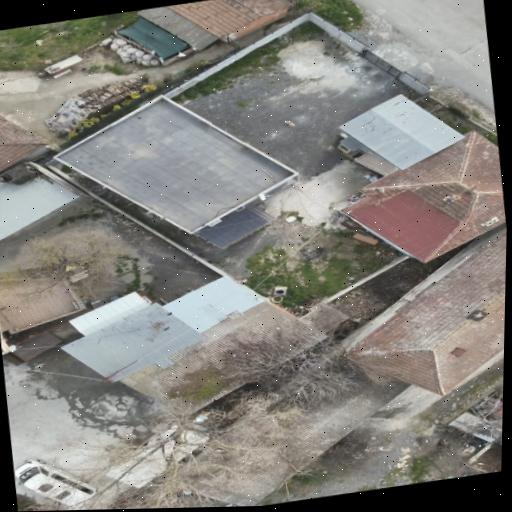car: (14, 459, 97, 509)
